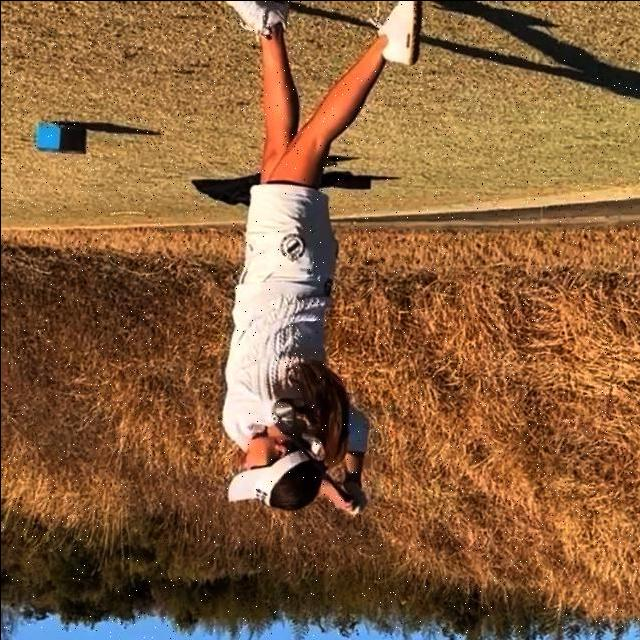golf club-handle: (267, 394, 354, 505)
golf club-head: (268, 397, 298, 438)
